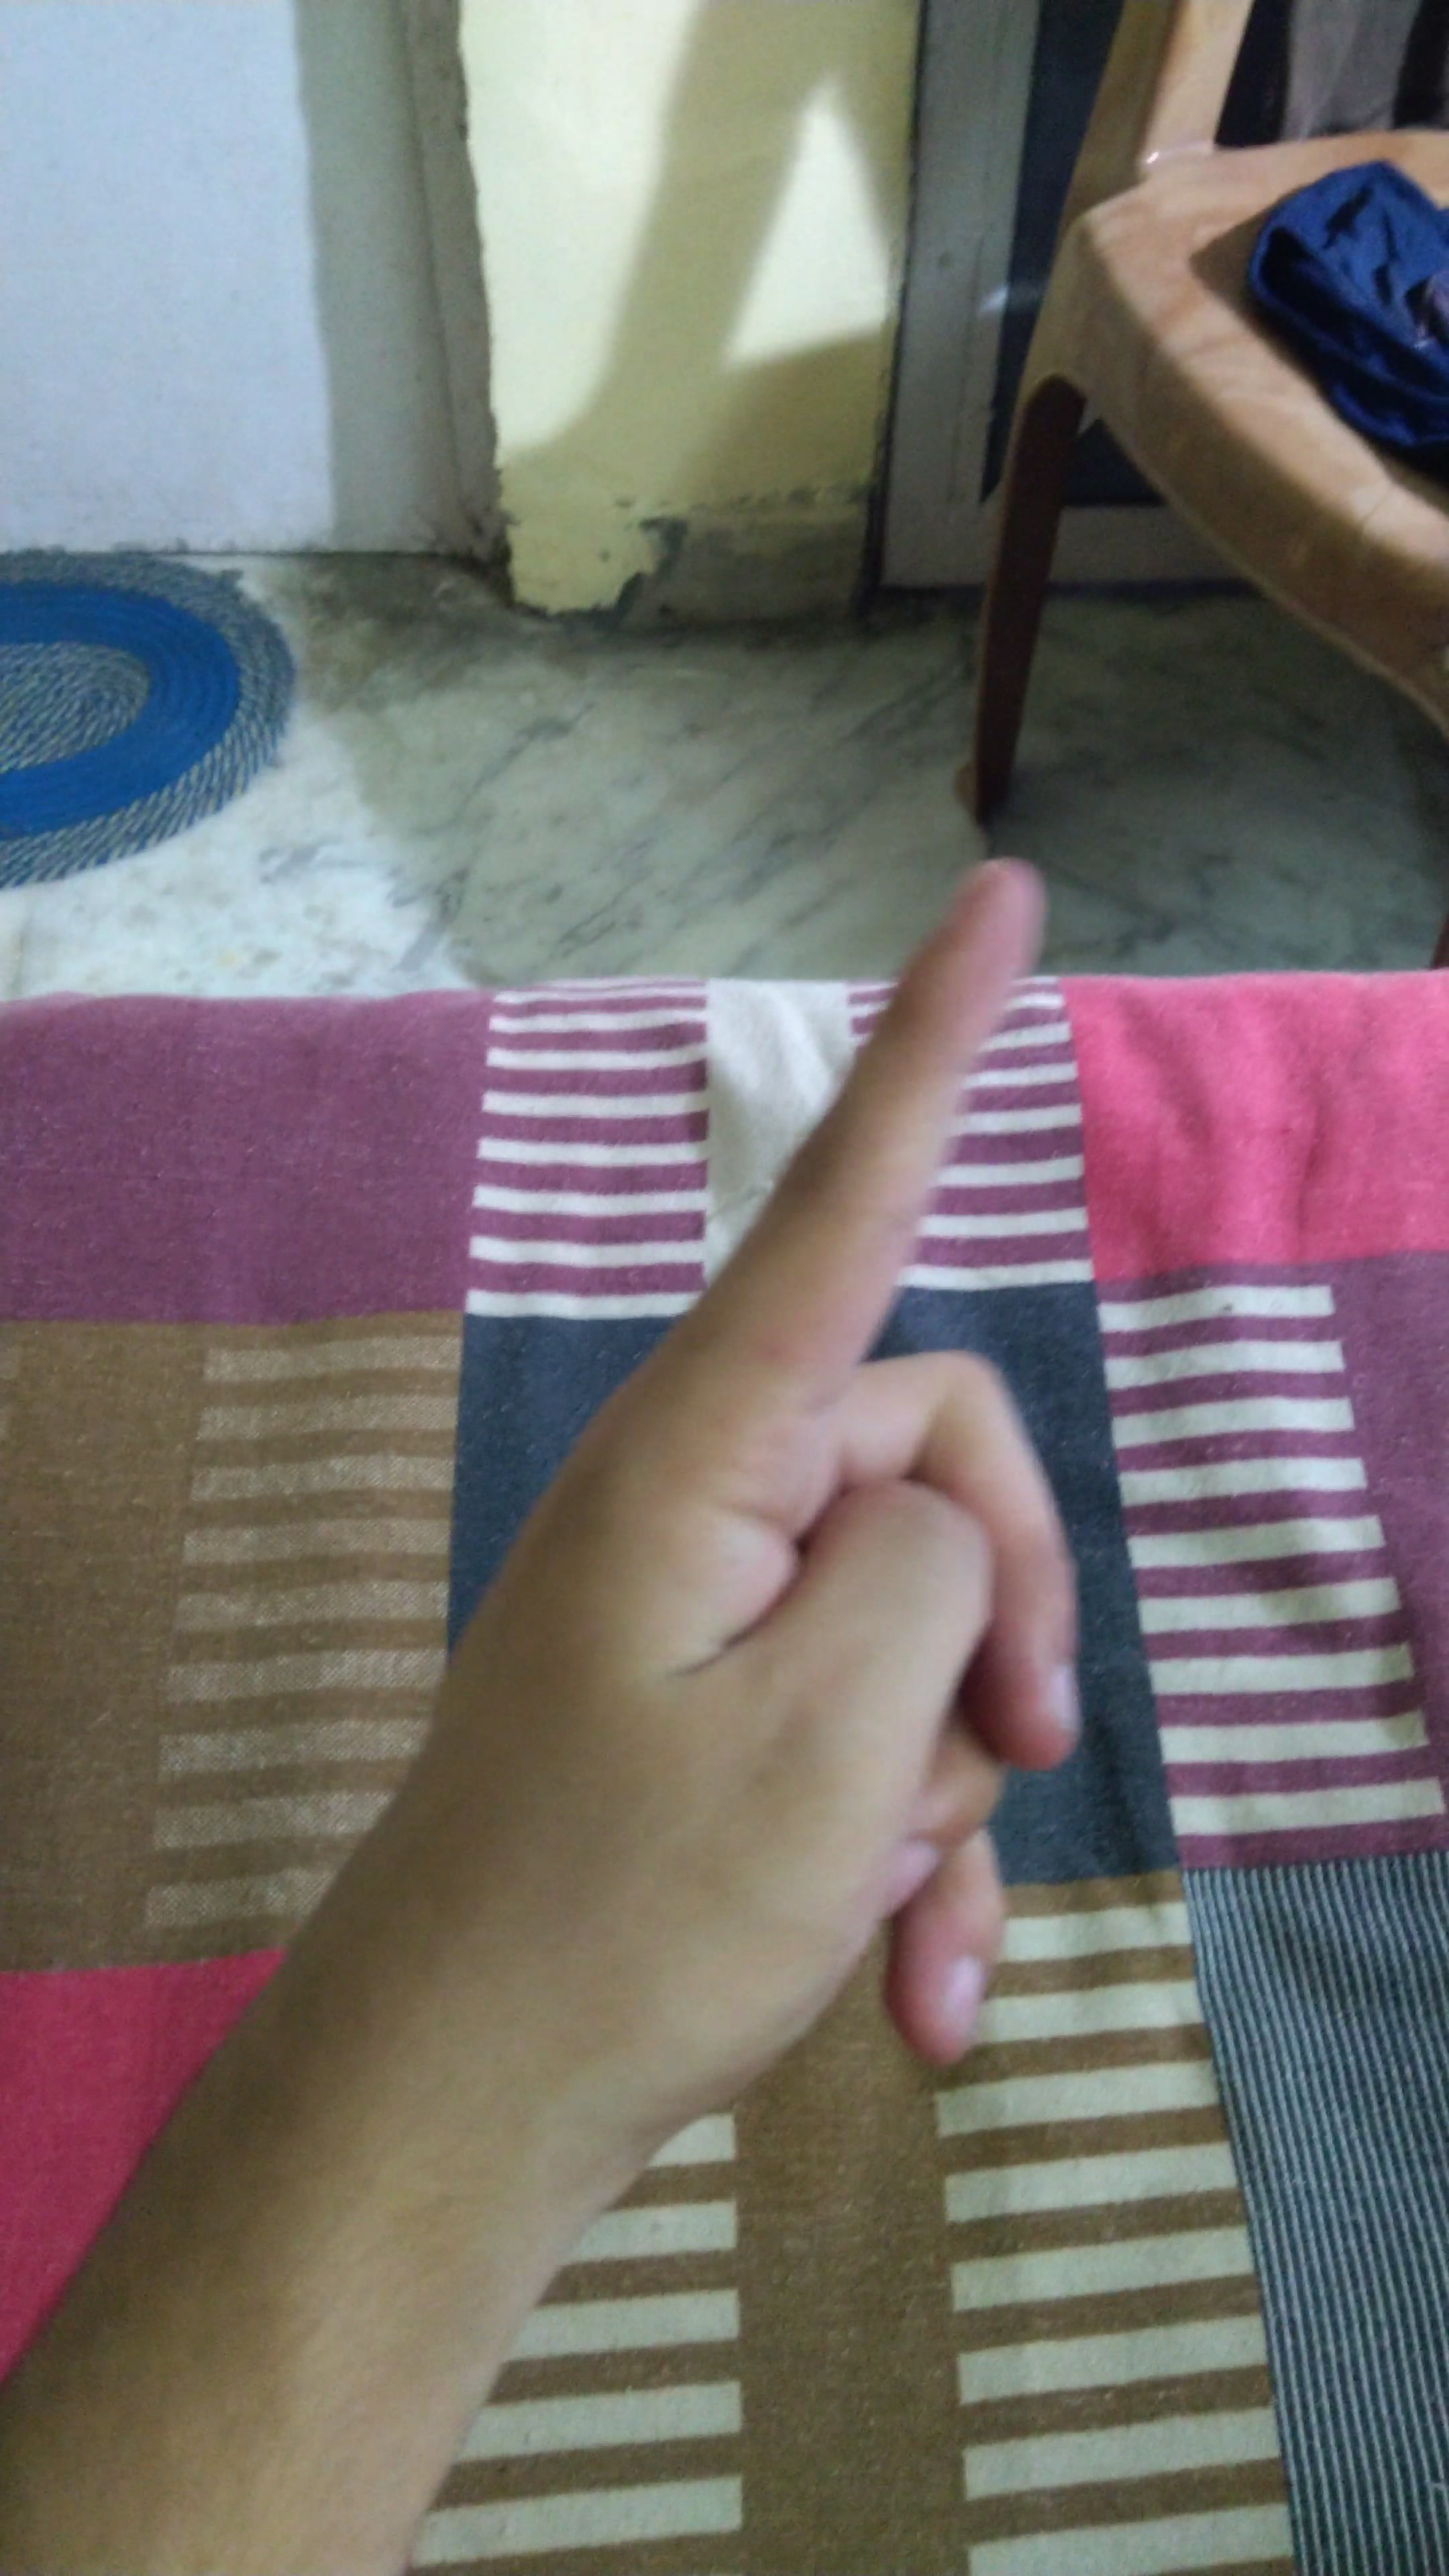hand: (264, 798, 1208, 2295)
